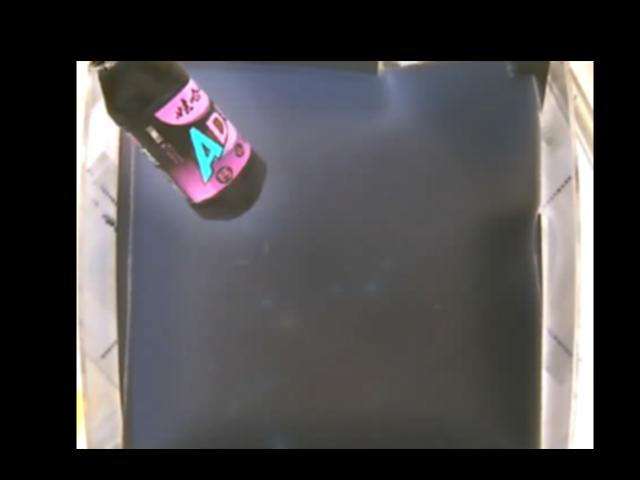Bottle: (90, 61, 269, 223)
